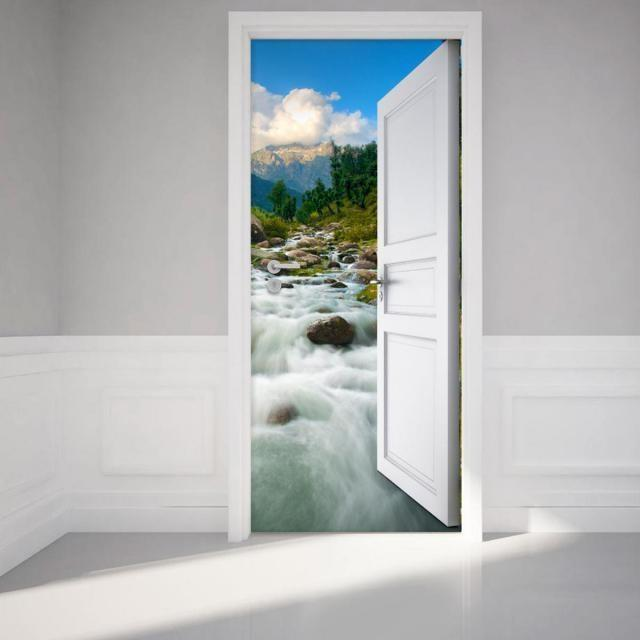door: (374, 39, 460, 528)
